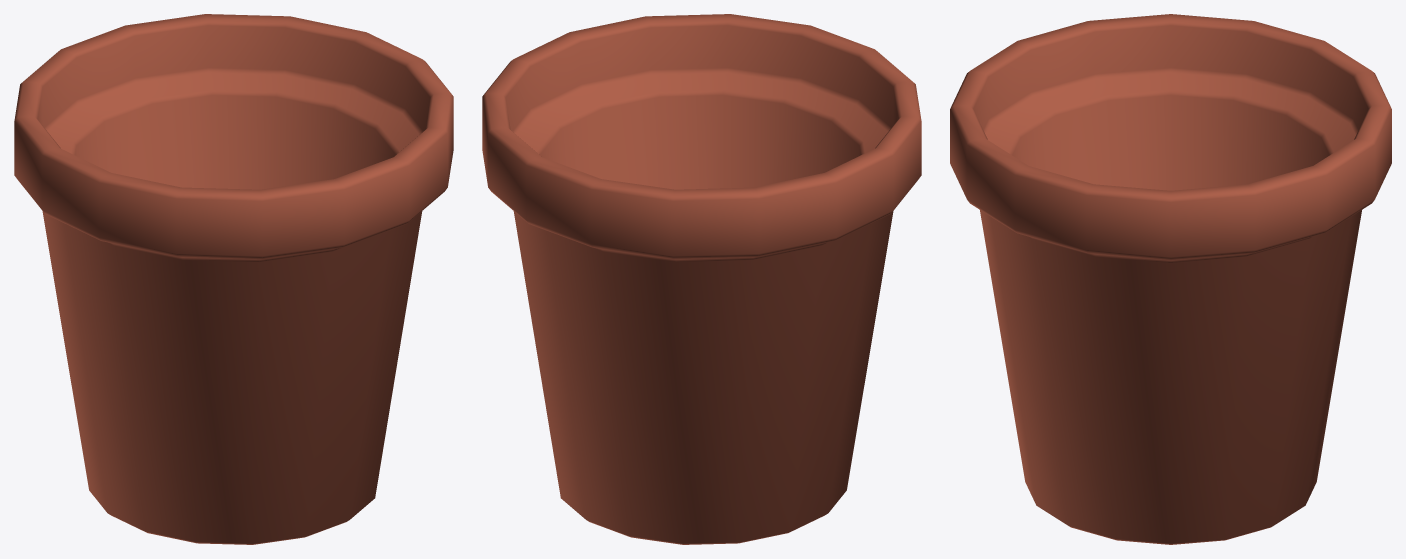
File: pot de plante.fbx
3 views of the same model, side by side, from view 1: azimuth 30°, elevation 25°; view 2: azimuth 150°, elevation 25°; view 3: azimuth 270°, elevation 25° (orthographic).
Visible parts, largest first — view 1: Cylinder; view 2: Cylinder; view 3: Cylinder.
Boxes of the visible parts, bbox=[...] form: Cylinder: bbox=[14, 14, 453, 544]; Cylinder: bbox=[482, 14, 921, 544]; Cylinder: bbox=[950, 14, 1391, 544].
Size of the model in its own units: 148 by 140 by 148.
